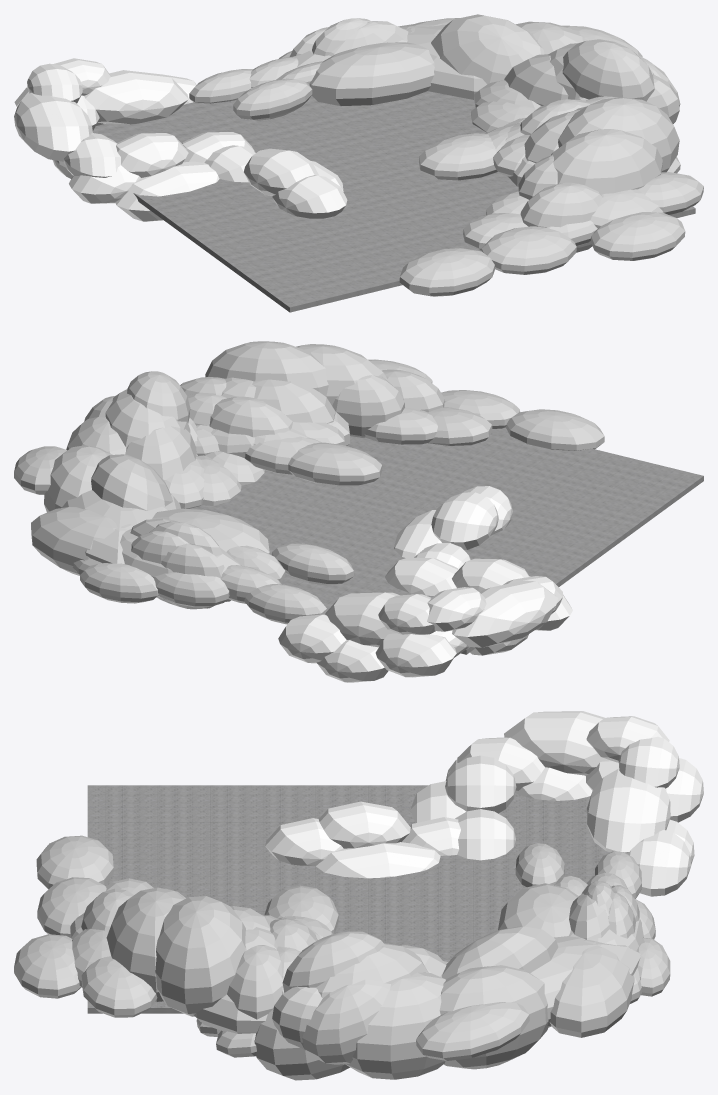
Rendered from cloud_map_0.glb.
3 renders of one model, top to bottom at view 1: azimuth 30°, elevation 25°; view 2: azimuth 150°, elevation 25°; view 3: azimuth 270°, elevation 25°, orthographic. The views are drawn at different scales.
Parts seen in each view (by area): view 1: Cube, pSphere36, pSphere36.002, group1749857407, pSphere36.001, pSphere36.003, group2089246467, group2022504729, group861443884, group753871011, group823064112, group1959172063 (+26 smaller); view 2: Cube, pSphere36.003, pSphere36.002, pSphere36.001, pSphere36, group753871011, group1089962829, group2022504729, group555025619, group823064112, group957894213, group1790815845 (+33 smaller); view 3: Cube, pSphere36.003, pSphere36.002, pSphere36.001, group753871011, pSphere36, group1776950288, group1460345276, group1089962829, group1187914119, group107250073, group2089246467 (+27 smaller).
Boxes of the visible parts, <box> form: Cube: <box>92,91,695,312</box>; pSphere36: <box>69,132,254,221</box>; pSphere36.002: <box>14,63,120,178</box>; group1749857407: <box>309,42,434,106</box>; pSphere36.001: <box>204,145,347,218</box>; pSphere36.003: <box>14,58,196,125</box>; group2089246467: <box>551,129,662,194</box>; group2022504729: <box>431,14,544,84</box>; group861443884: <box>562,39,654,101</box>; group753871011: <box>558,97,679,172</box>; group823064112: <box>399,248,495,296</box>; group1959172063: <box>591,212,685,260</box>; Cube: <box>189,427,703,654</box>; pSphere36.003: <box>278,592,456,682</box>; pSphere36.002: <box>427,576,562,657</box>; pSphere36.001: <box>394,486,512,569</box>; pSphere36: <box>385,557,572,630</box>; group753871011: <box>205,341,328,396</box>; group1089962829: <box>31,507,132,575</box>; group2022504729: <box>91,454,172,510</box>; group555025619: <box>288,442,382,486</box>; group823064112: <box>505,409,604,450</box>; group957894213: <box>332,375,404,437</box>; group1790815845: <box>209,396,292,437</box>; Cube: <box>87,785,609,1013</box>; pSphere36.003: <box>586,736,703,896</box>; pSphere36.002: <box>457,711,669,800</box>; pSphere36.001: <box>265,801,460,878</box>; group753871011: <box>155,896,245,1016</box>; pSphere36: <box>410,755,516,860</box>; group1776950288: <box>345,972,445,1079</box>; group1460345276: <box>439,965,548,1069</box>; group1089962829: <box>549,939,634,1037</box>; group1187914119: <box>416,1002,529,1060</box>; group107250073: <box>302,979,390,1064</box>; group2089246467: <box>106,887,184,1001</box>.
Bounding box in the file's own units: 69.54 × 14.62 × 65.55.
Materials: 6 (1 with a texture image).
